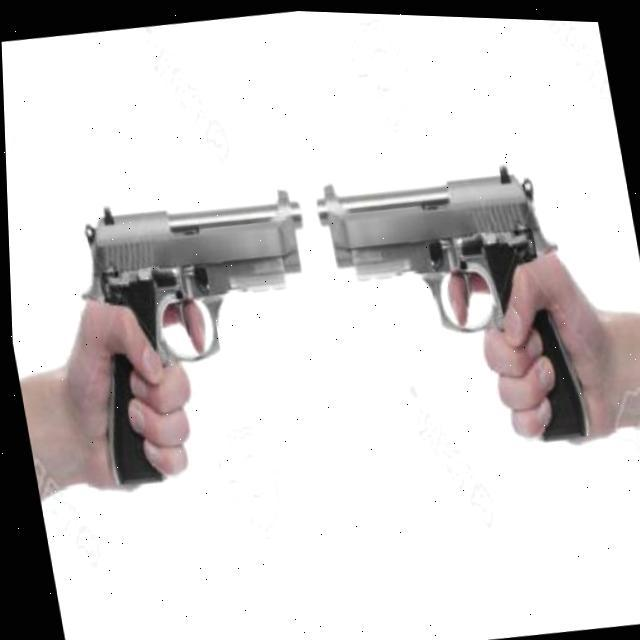gun: (312, 136, 592, 494), (57, 184, 344, 497)
